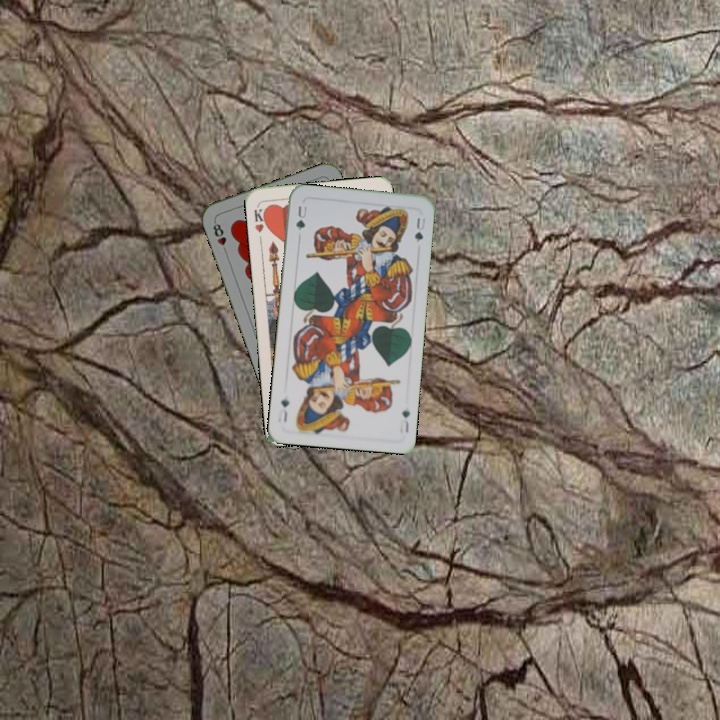GU: (395, 405, 413, 436), (292, 201, 309, 233)
H8: (209, 217, 230, 256)
HK: (250, 204, 270, 235)
